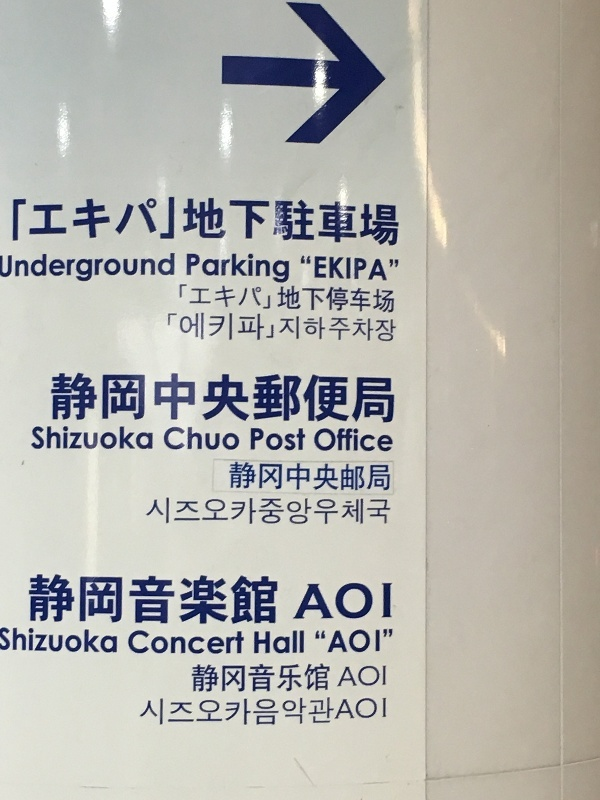text: (33, 572, 48, 628), (49, 572, 64, 628), (65, 572, 80, 628), (81, 572, 96, 628), (97, 572, 112, 628), (113, 572, 128, 628), (129, 572, 144, 628), (145, 572, 160, 628), (161, 572, 176, 628), (177, 572, 192, 628), (193, 572, 208, 628), (209, 572, 224, 628), (225, 572, 240, 628), (241, 572, 256, 628), (257, 572, 272, 628), (273, 572, 288, 628), (289, 572, 304, 628), (305, 572, 320, 628), (321, 572, 336, 628), (337, 572, 352, 628), (353, 572, 368, 628), (369, 572, 384, 628), (17, 194, 32, 249), (33, 194, 48, 249), (49, 194, 64, 249), (65, 194, 80, 249), (81, 194, 96, 249), (97, 194, 112, 249), (113, 194, 128, 249), (129, 194, 144, 249), (145, 194, 160, 249), (161, 194, 176, 249), (177, 194, 192, 249), (193, 194, 208, 249), (209, 194, 224, 249), (225, 194, 240, 249), (241, 194, 256, 249), (257, 194, 272, 249), (273, 194, 288, 249), (289, 194, 304, 249), (305, 194, 320, 249), (321, 194, 336, 249), (337, 194, 352, 249), (353, 194, 368, 249), (369, 194, 384, 249), (385, 194, 400, 249), (65, 372, 80, 425), (81, 372, 96, 425), (97, 372, 112, 425), (113, 372, 128, 425), (129, 372, 144, 425), (145, 372, 160, 425), (161, 372, 176, 425), (177, 372, 192, 425), (193, 372, 208, 425), (209, 372, 224, 425), (225, 372, 240, 425), (241, 372, 256, 425), (257, 372, 272, 425), (273, 372, 288, 425), (289, 372, 304, 425), (305, 372, 320, 425), (321, 372, 336, 425), (337, 372, 352, 425), (353, 372, 368, 425), (369, 372, 384, 425), (51, 372, 64, 425), (385, 372, 397, 425), (385, 572, 394, 628), (193, 284, 208, 316), (209, 284, 224, 316), (225, 284, 240, 316), (241, 284, 256, 316), (257, 284, 272, 316), (273, 284, 288, 316), (289, 284, 304, 316), (305, 284, 320, 316), (321, 284, 336, 316), (337, 284, 352, 316), (353, 284, 368, 316), (369, 284, 384, 316), (1, 254, 16, 285), (17, 254, 32, 285), (33, 254, 48, 285), (49, 254, 64, 285), (65, 254, 80, 285), (81, 254, 96, 285), (97, 254, 112, 285), (113, 254, 128, 285), (129, 254, 144, 285), (145, 254, 160, 285), (193, 253, 208, 284), (209, 253, 224, 284), (225, 253, 240, 284), (241, 253, 256, 284), (257, 253, 272, 284), (273, 253, 288, 284), (177, 313, 192, 344), (193, 313, 208, 344), (209, 313, 224, 344), (225, 313, 240, 344), (241, 313, 256, 344), (257, 313, 272, 344), (273, 313, 288, 344), (289, 313, 304, 344), (305, 313, 320, 344), (321, 313, 336, 344), (337, 313, 352, 344), (353, 313, 368, 344), (369, 313, 384, 344), (241, 461, 256, 492), (257, 461, 272, 492), (273, 461, 288, 492), (289, 461, 304, 492), (305, 461, 320, 492), (321, 461, 336, 492), (337, 461, 352, 492), (353, 461, 368, 492), (369, 461, 384, 492), (193, 663, 208, 694), (209, 663, 224, 694), (225, 663, 240, 694), (241, 663, 256, 694), (257, 663, 272, 694), (273, 663, 288, 694), (289, 663, 304, 694), (305, 663, 320, 694), (321, 663, 336, 694), (337, 663, 352, 694), (353, 663, 368, 694), (369, 663, 384, 694), (161, 254, 175, 285), (305, 254, 320, 282), (321, 254, 336, 282), (337, 254, 352, 282), (353, 254, 368, 282), (369, 254, 384, 282), (161, 498, 176, 526), (177, 498, 192, 526), (193, 498, 208, 526), (209, 498, 224, 526), (225, 498, 240, 526), (241, 498, 256, 526), (257, 498, 272, 526), (273, 498, 288, 526), (289, 498, 304, 526), (305, 498, 320, 526), (321, 498, 336, 526), (337, 498, 352, 526), (353, 498, 368, 526), (369, 498, 384, 526), (1, 627, 16, 655), (17, 627, 32, 655), (33, 627, 48, 655), (49, 627, 64, 655), (65, 627, 80, 655), (81, 627, 96, 655), (97, 627, 112, 655), (145, 698, 160, 726), (161, 698, 176, 726), (177, 698, 192, 726), (193, 698, 208, 726), (209, 698, 224, 726), (225, 698, 240, 726), (241, 698, 256, 726), (257, 698, 272, 726), (273, 698, 288, 726), (289, 698, 304, 726), (305, 698, 320, 726), (321, 698, 336, 726), (337, 698, 352, 726), (353, 698, 368, 726), (369, 698, 384, 726), (385, 254, 399, 282), (180, 284, 192, 316), (289, 428, 305, 452), (289, 630, 305, 654), (321, 427, 336, 452), (337, 427, 352, 452), (353, 427, 368, 452), (369, 427, 384, 452), (385, 313, 397, 344), (147, 498, 160, 526), (33, 426, 48, 450), (49, 426, 64, 450), (65, 426, 80, 450), (81, 426, 96, 450), (97, 426, 112, 450), (113, 426, 128, 450), (129, 426, 144, 450), (257, 428, 272, 452), (273, 428, 288, 452), (129, 631, 144, 655), (145, 631, 160, 655), (161, 631, 176, 655), (177, 631, 192, 655), (193, 631, 208, 655), (209, 631, 224, 655), (225, 631, 240, 655), (257, 630, 272, 654), (273, 630, 288, 654), (321, 629, 336, 653), (337, 629, 352, 653), (353, 629, 368, 653), (369, 629, 384, 653), (177, 427, 192, 450), (193, 427, 208, 450), (209, 427, 224, 450), (225, 427, 240, 450), (385, 284, 395, 316), (230, 461, 240, 492), (164, 427, 176, 450), (11, 194, 16, 249), (168, 313, 176, 344), (385, 427, 394, 452), (145, 426, 153, 450), (385, 629, 393, 653), (385, 461, 391, 492), (385, 498, 391, 526), (187, 253, 192, 284), (113, 627, 118, 655), (315, 427, 320, 452), (251, 428, 256, 452), (315, 629, 320, 653), (30, 572, 32, 628), (140, 698, 144, 726), (241, 631, 245, 655), (385, 663, 388, 694), (301, 254, 304, 282), (385, 698, 388, 726), (254, 630, 256, 654), (289, 253, 290, 284)
